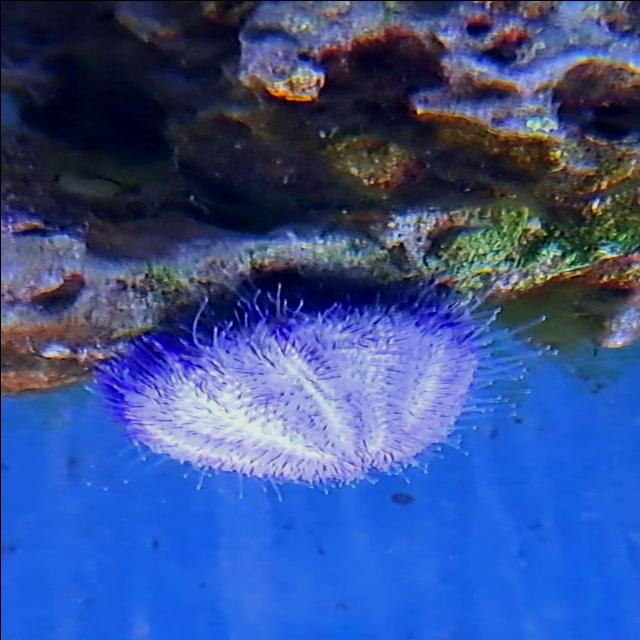Deniz Kestanesi: (73, 272, 546, 503)
